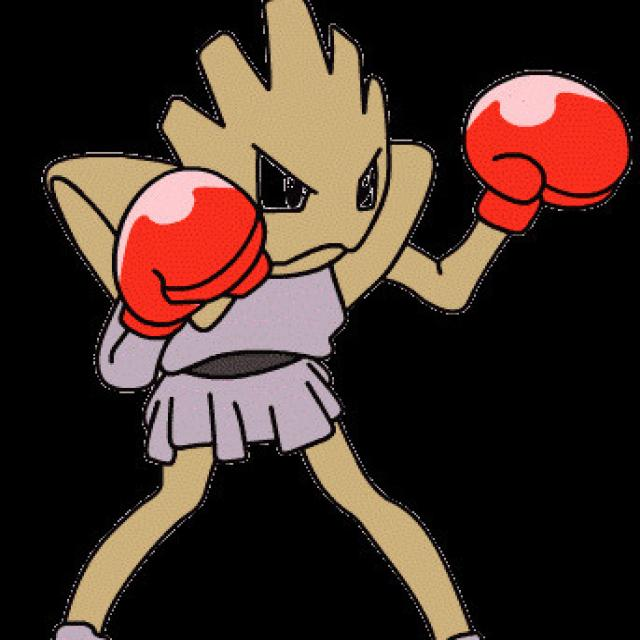Hitmonchan: (66, 24, 614, 478)
